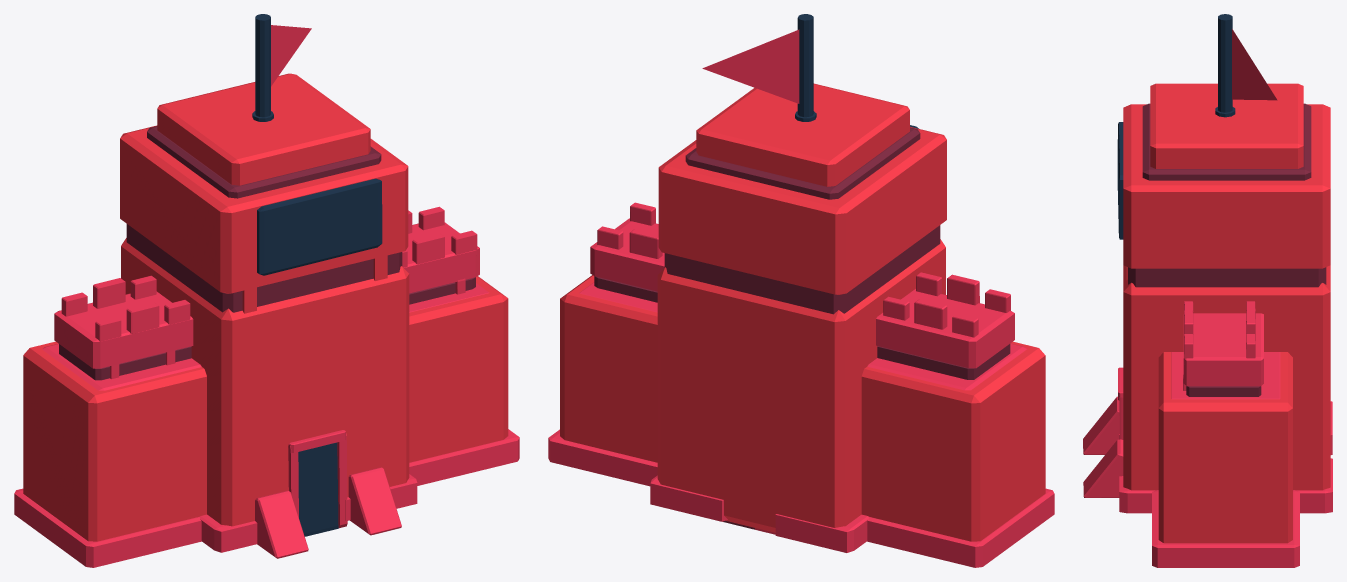
Rendered from 3D_EnemyFortress2.fbx.
The picture shows the model from 3 angles, left to right: view 1: azimuth 30°, elevation 25°; view 2: azimuth 150°, elevation 25°; view 3: azimuth 270°, elevation 25°; orthographic projection. The views are drawn at different scales.
Visible parts, largest first — view 1: 3D_EnemyFortress; view 2: 3D_EnemyFortress; view 3: 3D_EnemyFortress.
Part boxes in pixels (x1=…): 3D_EnemyFortress: x1=14, y1=14, x2=519, y2=567; 3D_EnemyFortress: x1=548, y1=14, x2=1054, y2=567; 3D_EnemyFortress: x1=1083, y1=14, x2=1332, y2=567.
Size of the model in its own units: 671 by 705 by 350.
1 material, 1 textured.
